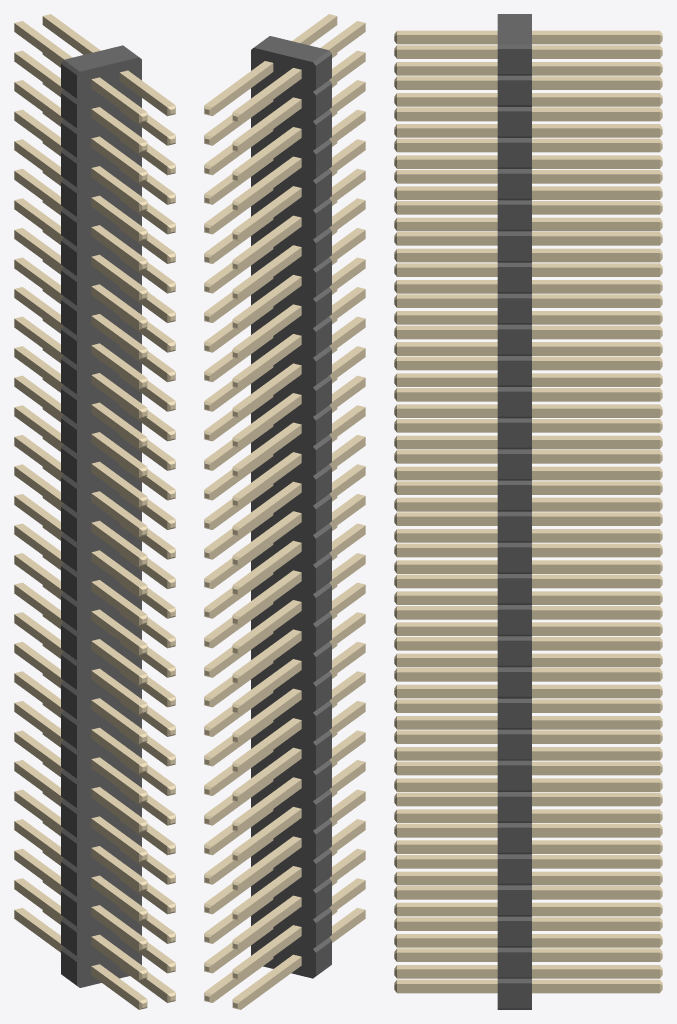
Rendered from PinHeader_2x31_P1.00mm_Vertical.glb.
3 renders of one model, left to right at view 1: azimuth 30°, elevation 25°; view 2: azimuth 150°, elevation 25°; view 3: azimuth 270°, elevation 25°, orthographic. The views are drawn at different scales.
Visible parts, largest first — view 1: Shape_IndexedFaceSet.003, Shape_IndexedFaceSet.001, Shape_IndexedFaceSet.421, Shape_IndexedFaceSet.277, Shape_IndexedFaceSet.298, Shape_IndexedFaceSet.385, Shape_IndexedFaceSet.525, Shape_IndexedFaceSet.633, Shape_IndexedFaceSet.546, Shape_IndexedFaceSet.569, Shape_IndexedFaceSet.659, Shape_IndexedFaceSet.662 (+95 smaller); view 2: Shape_IndexedFaceSet.004, Shape_IndexedFaceSet.001, Shape_IndexedFaceSet.669, Shape_IndexedFaceSet.546, Shape_IndexedFaceSet.525, Shape_IndexedFaceSet.633, Shape_IndexedFaceSet.485, Shape_IndexedFaceSet.518, Shape_IndexedFaceSet.554, Shape_IndexedFaceSet.586, Shape_IndexedFaceSet.641, Shape_IndexedFaceSet.650 (+63 smaller); view 3: Shape_IndexedFaceSet.439, Shape_IndexedFaceSet.445, Shape_IndexedFaceSet.447, Shape_IndexedFaceSet.453, Shape_IndexedFaceSet.456, Shape_IndexedFaceSet.461, Shape_IndexedFaceSet.465, Shape_IndexedFaceSet.468, Shape_IndexedFaceSet.472, Shape_IndexedFaceSet.476, Shape_IndexedFaceSet.480, Shape_IndexedFaceSet.483 (+206 smaller).
Part boxes in pixels (<box>): Shape_IndexedFaceSet.003: <box>77,57,141,987</box>; Shape_IndexedFaceSet.001: <box>64,45,138,71</box>; Shape_IndexedFaceSet.421: <box>119,73,167,115</box>; Shape_IndexedFaceSet.277: <box>91,227,138,270</box>; Shape_IndexedFaceSet.298: <box>91,523,138,566</box>; Shape_IndexedFaceSet.385: <box>91,818,138,861</box>; Shape_IndexedFaceSet.525: <box>14,171,63,213</box>; Shape_IndexedFaceSet.633: <box>14,762,63,804</box>; Shape_IndexedFaceSet.546: <box>14,466,63,508</box>; Shape_IndexedFaceSet.569: <box>14,378,63,420</box>; Shape_IndexedFaceSet.659: <box>14,851,63,893</box>; Shape_IndexedFaceSet.662: <box>14,23,63,65</box>; Shape_IndexedFaceSet.004: <box>251,48,315,978</box>; Shape_IndexedFaceSet.001: <box>254,36,328,61</box>; Shape_IndexedFaceSet.669: <box>212,63,273,115</box>; Shape_IndexedFaceSet.546: <box>241,513,301,566</box>; Shape_IndexedFaceSet.525: <box>241,218,301,270</box>; Shape_IndexedFaceSet.633: <box>241,809,301,861</box>; Shape_IndexedFaceSet.485: <box>241,247,301,299</box>; Shape_IndexedFaceSet.518: <box>241,99,301,152</box>; Shape_IndexedFaceSet.554: <box>241,572,301,625</box>; Shape_IndexedFaceSet.586: <box>241,484,301,536</box>; Shape_IndexedFaceSet.641: <box>241,838,301,891</box>; Shape_IndexedFaceSet.650: <box>241,750,301,802</box>; Shape_IndexedFaceSet.439: <box>532,377,659,386</box>; Shape_IndexedFaceSet.445: <box>532,392,659,401</box>; Shape_IndexedFaceSet.447: <box>532,361,659,370</box>; Shape_IndexedFaceSet.453: <box>532,346,659,355</box>; Shape_IndexedFaceSet.456: <box>532,315,659,324</box>; Shape_IndexedFaceSet.461: <box>532,330,659,339</box>; Shape_IndexedFaceSet.465: <box>532,267,659,276</box>; Shape_IndexedFaceSet.468: <box>532,298,659,307</box>; Shape_IndexedFaceSet.472: <box>532,253,659,262</box>; Shape_IndexedFaceSet.476: <box>532,284,659,293</box>; Shape_IndexedFaceSet.480: <box>532,236,659,245</box>; Shape_IndexedFaceSet.483: <box>532,222,659,231</box>.
Size of the model in its own units: 0.906 by 12.21 by 3.07.
